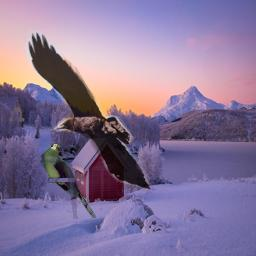Crow: (25, 30, 152, 193)
Cuckoo: (41, 143, 100, 219)
